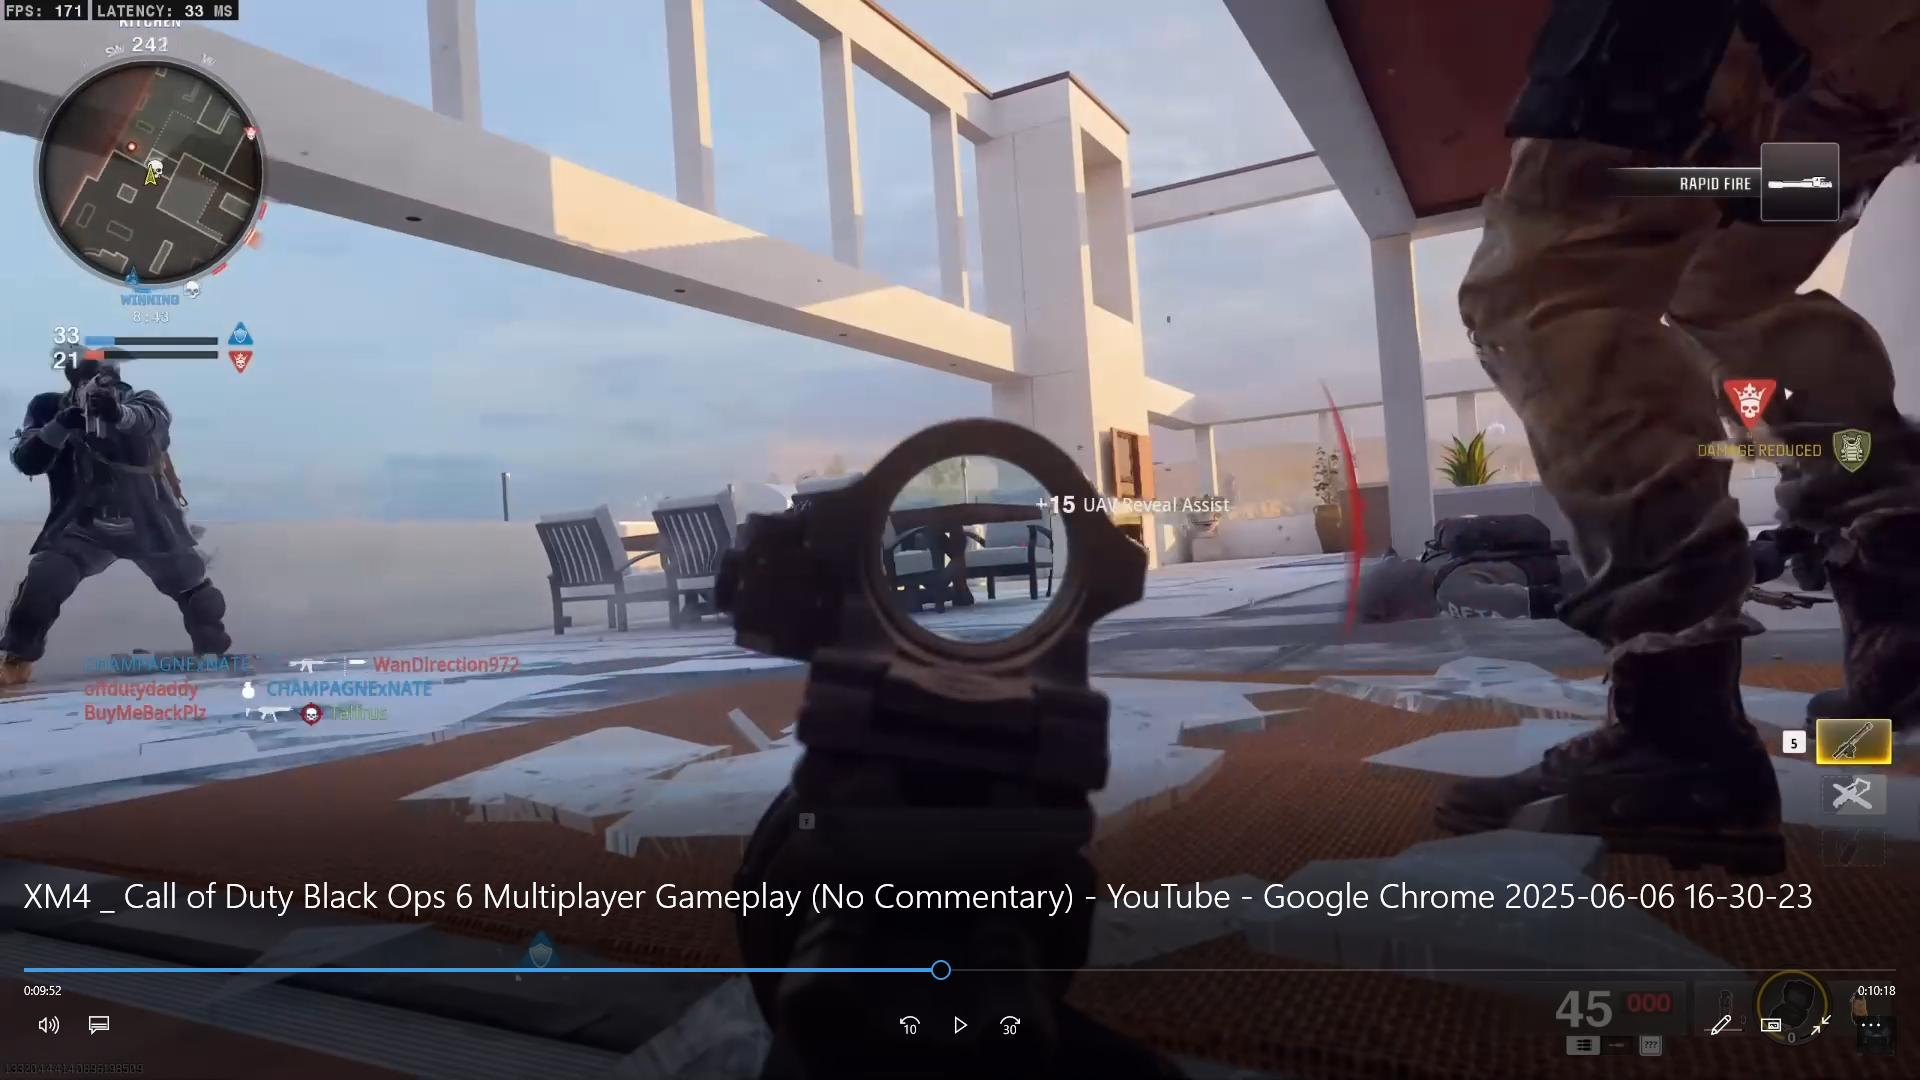Enemy: (20, 365, 239, 646)
